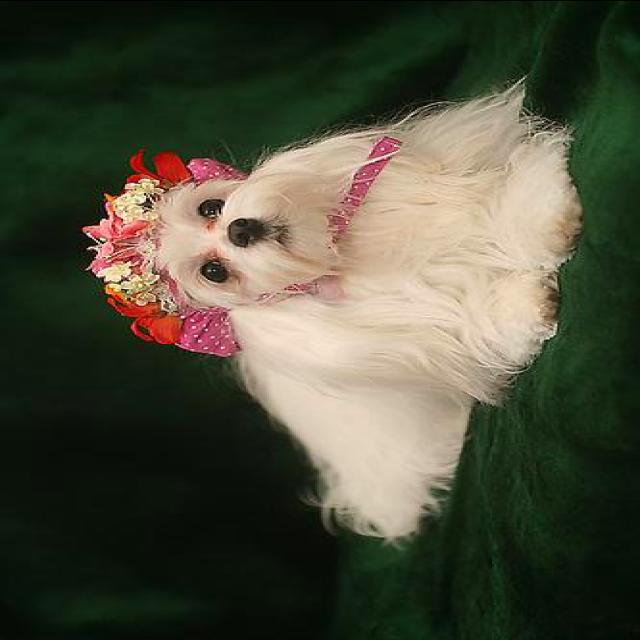maltese_dog: (146, 70, 584, 542)
